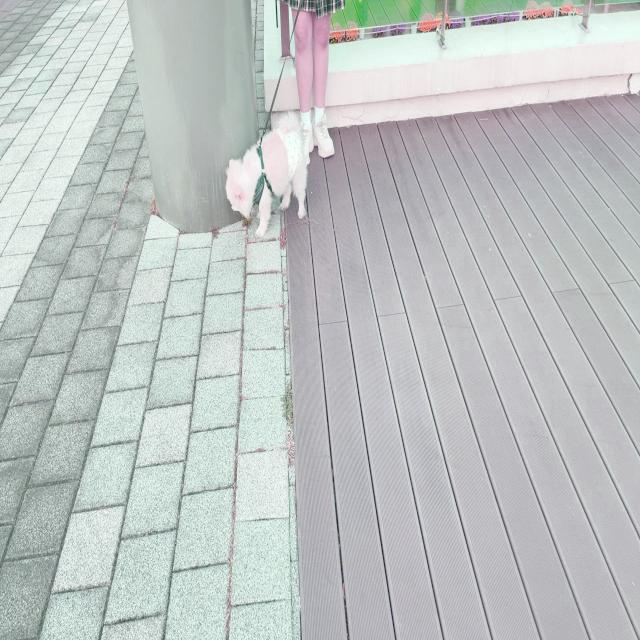Leashed_Dog: (225, 0, 312, 238)
